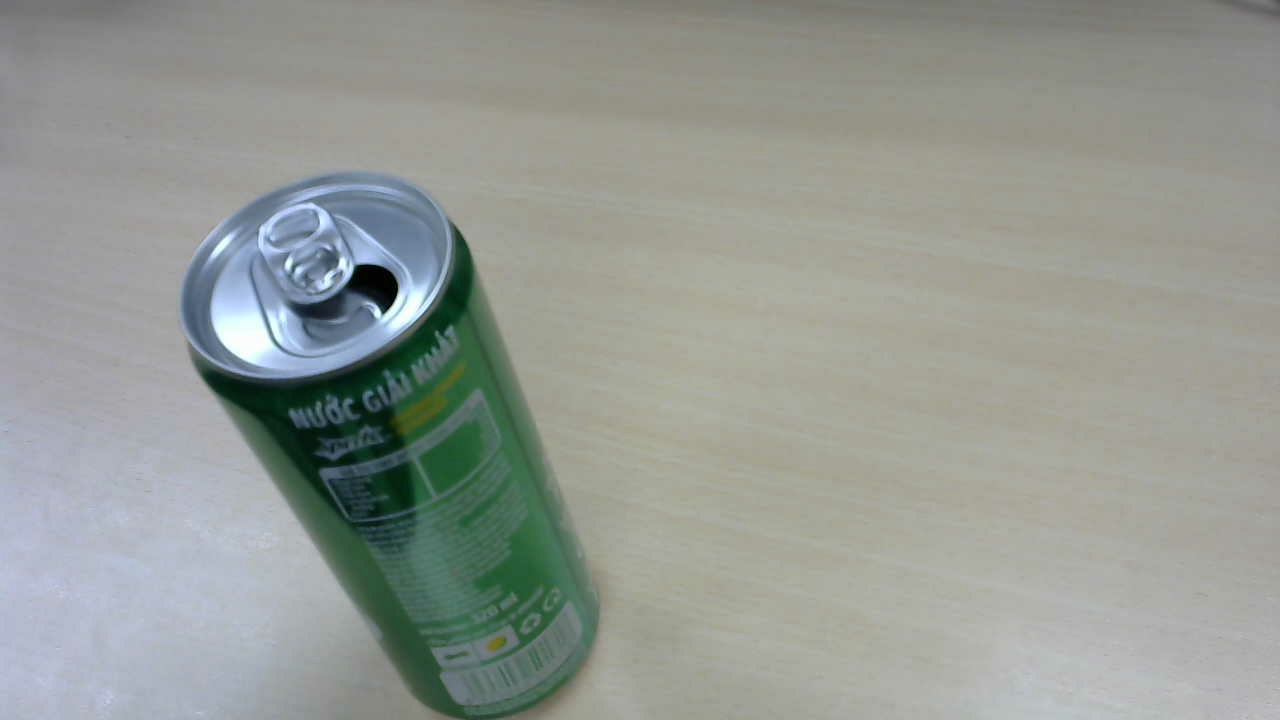Sprite: (188, 178, 600, 700)
